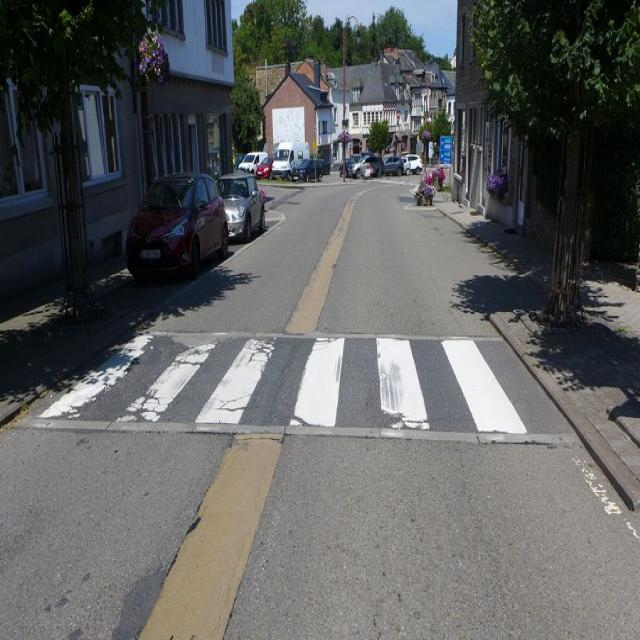crosswalk: (11, 333, 580, 438)
